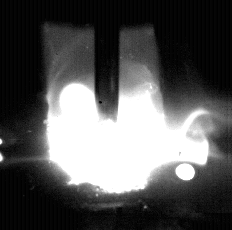arame: (95, 0, 120, 123)
poca: (47, 0, 207, 230)
